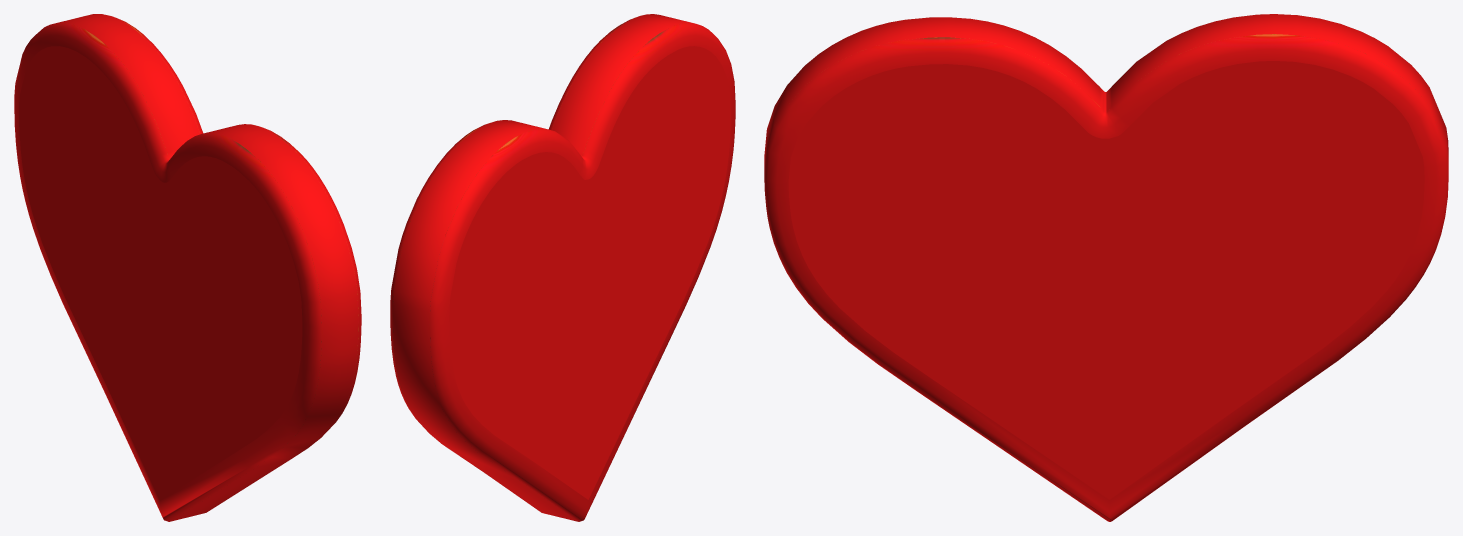
File: heart 1.fbx
The picture shows the model from 3 angles, left to right: view 1: azimuth 30°, elevation 25°; view 2: azimuth 150°, elevation 25°; view 3: azimuth 270°, elevation 25°; orthographic projection. The views are drawn at different scales.
Parts seen in each view (by area): view 1: Object_2.006; view 2: Object_2.006; view 3: Object_2.006.
Boxes of the visible parts, x1,y1,x2,y2 form: Object_2.006: [14, 14, 361, 521]; Object_2.006: [390, 14, 735, 521]; Object_2.006: [764, 14, 1448, 521].
Size of the model in its own units: 5.94 by 44.38 by 56.48.
1 material, 1 textured.
